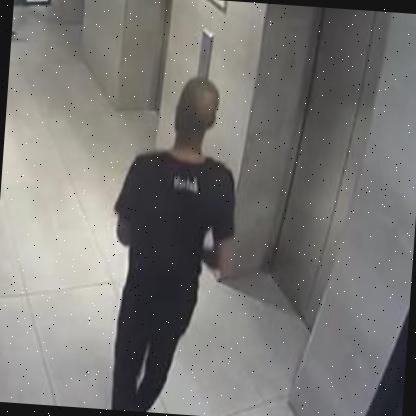person: (95, 63, 253, 416)
